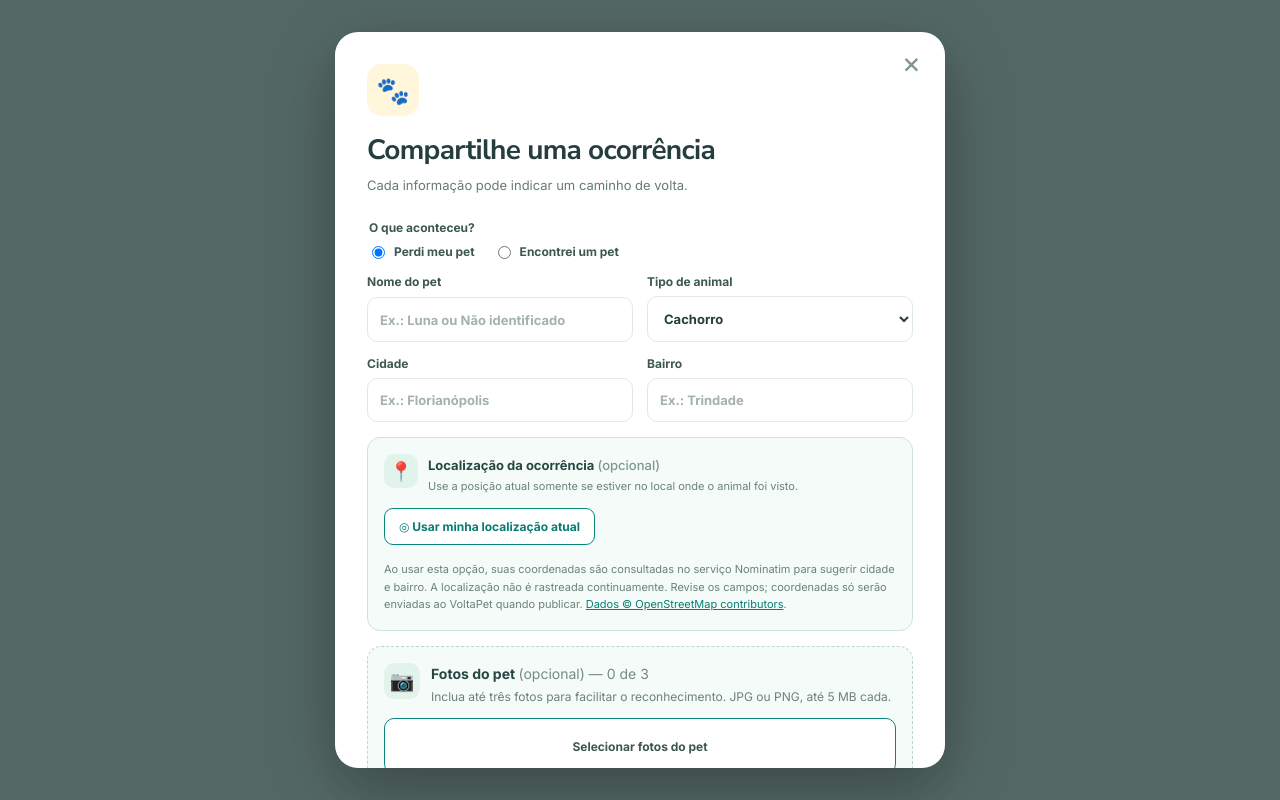
PublishDialog — geolocalização e endereço automático › preenche cidade e bairro a partir das coordenadas, após autorização
Step 1. Click the button "◎ Usar minha localização atual" → (490, 526), box [384, 508, 595, 545]
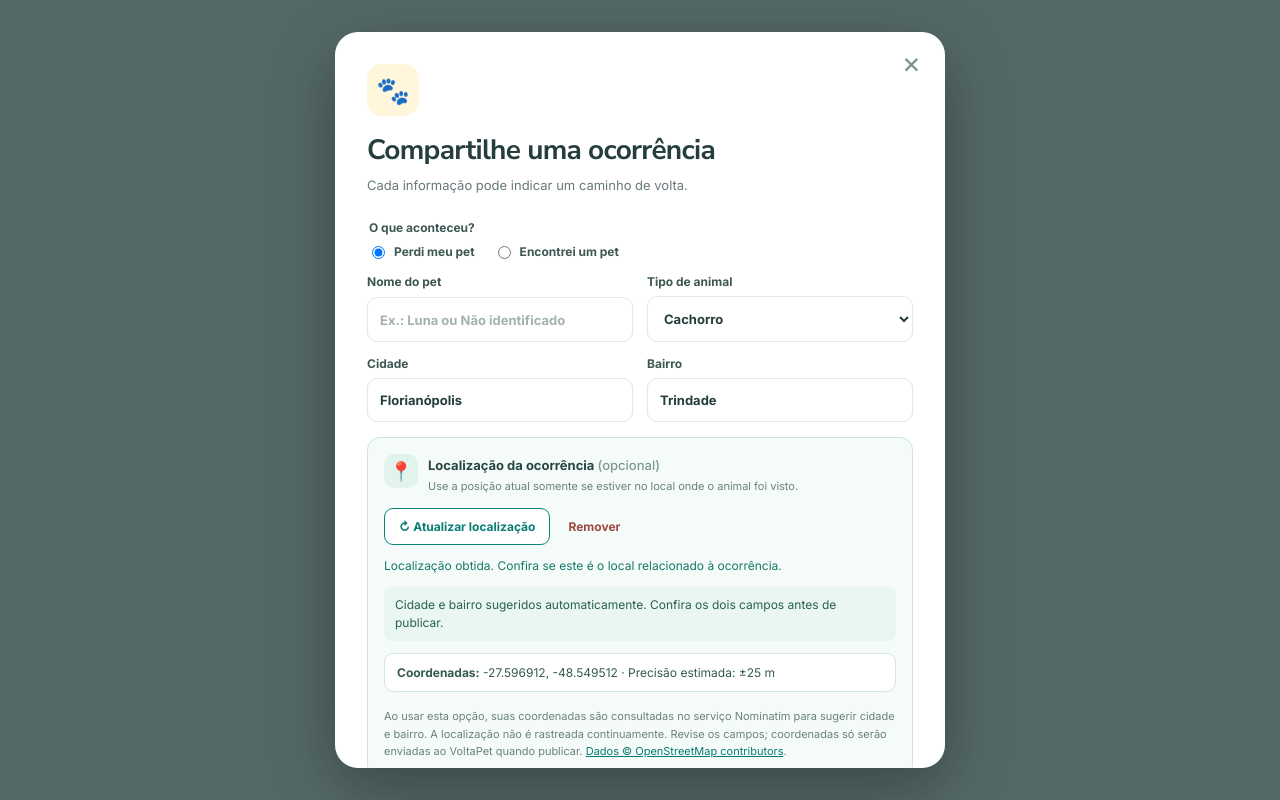
Result: the text "· Precisão estimada: ±25 m" is shown at [618, 665, 775, 680]
Result: the field with placeholder "Ex.: Florianópolis" holds "Florianópolis" at [367, 378, 633, 422]
Result: the field with placeholder "Ex.: Trindade" holds "Trindade" at [647, 378, 913, 422]
